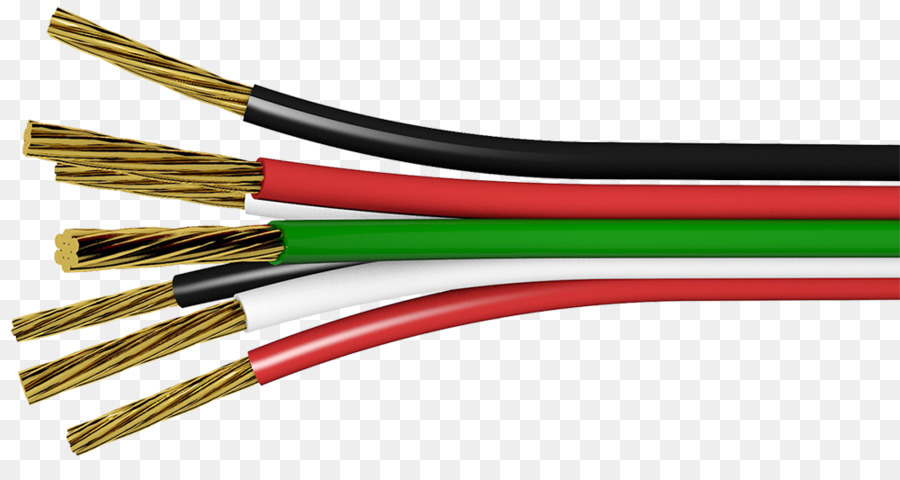more_tube: (274, 68, 841, 400)
